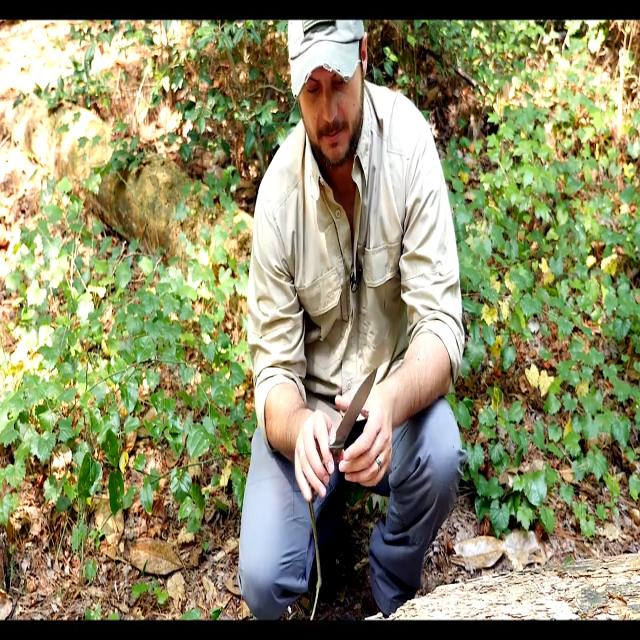knife: (307, 365, 380, 507)
